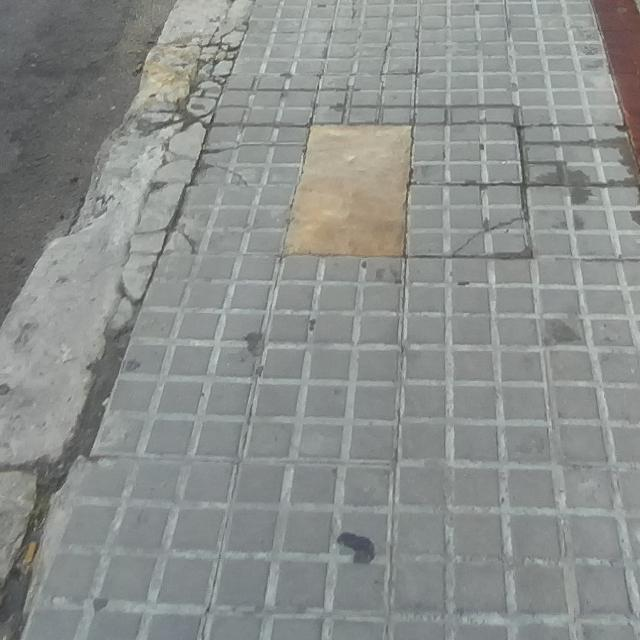calcada_quebrada: (445, 211, 537, 262), (373, 27, 420, 75), (214, 162, 254, 189), (373, 76, 390, 124)
